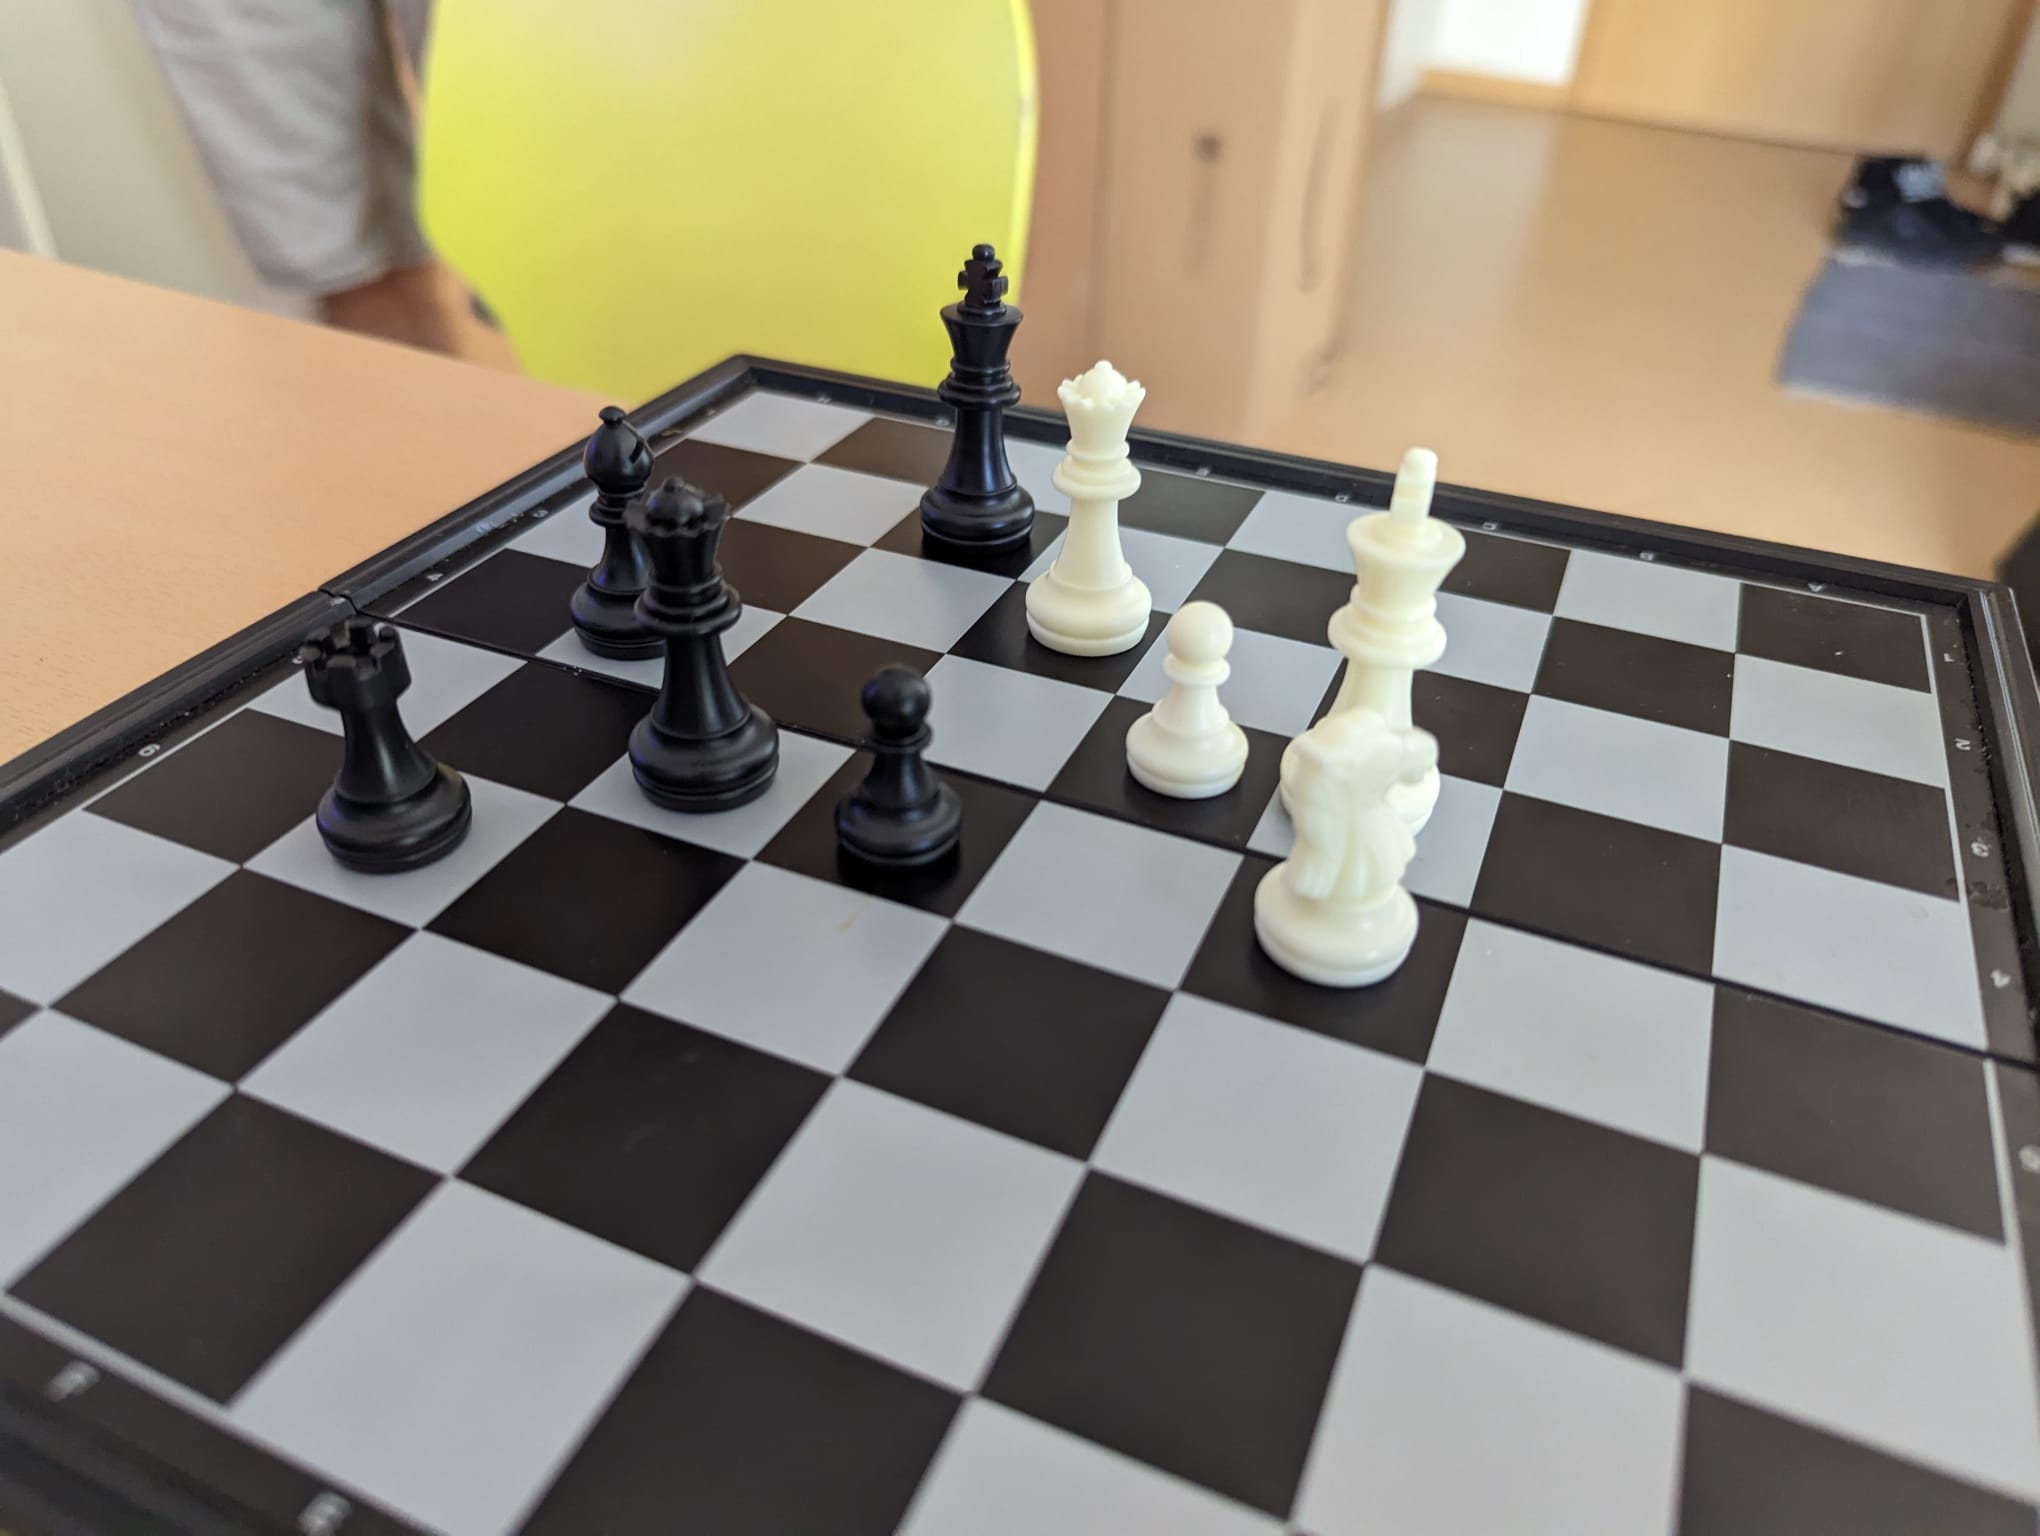BB: (564, 399, 671, 663)
BK: (910, 234, 1039, 545)
BP: (824, 662, 966, 873)
BQ: (616, 482, 793, 812)
BR: (281, 603, 476, 871)
WK: (1300, 445, 1477, 821)
WN: (1264, 707, 1437, 979)
WP: (1118, 602, 1255, 797)
WQ: (1024, 350, 1163, 662)
